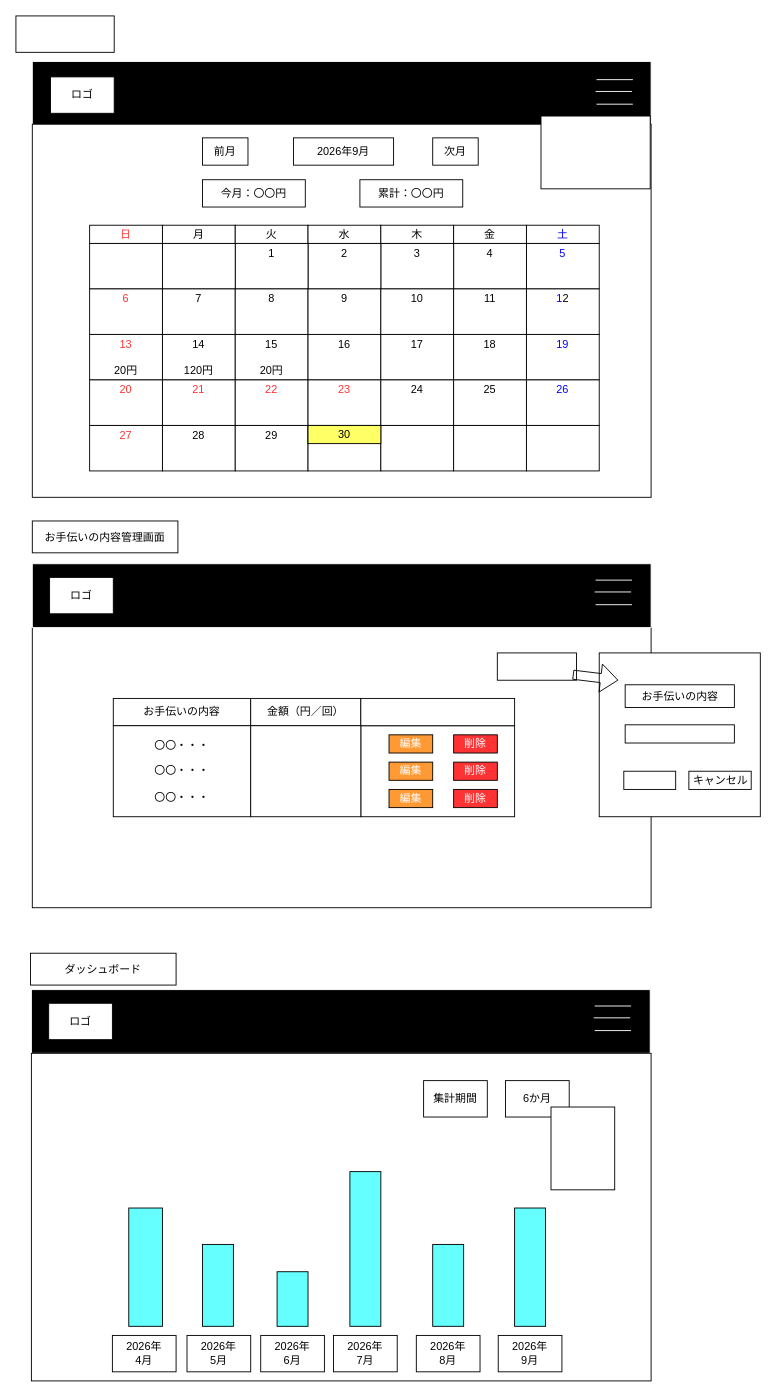
The diagram is 776 pixels wide and 1397 high, and some of its shapes have lost their labels. The shapes that lost their labels are listed below. From the top down, each one's centre as x and y in pixels, then its label:
At (x=64, y=33): "トップページ".
At (x=595, y=152): "トップページ ダッシュボード お手伝い管理画面".
At (x=536, y=666): "新規登録".
At (x=679, y=733): "1回あたりの金額".
At (x=305, y=771): "20円 30円 50円".
At (x=649, y=779): "登録".
At (x=582, y=1148): "1か月 3か月 6か月 1年 全期間".
